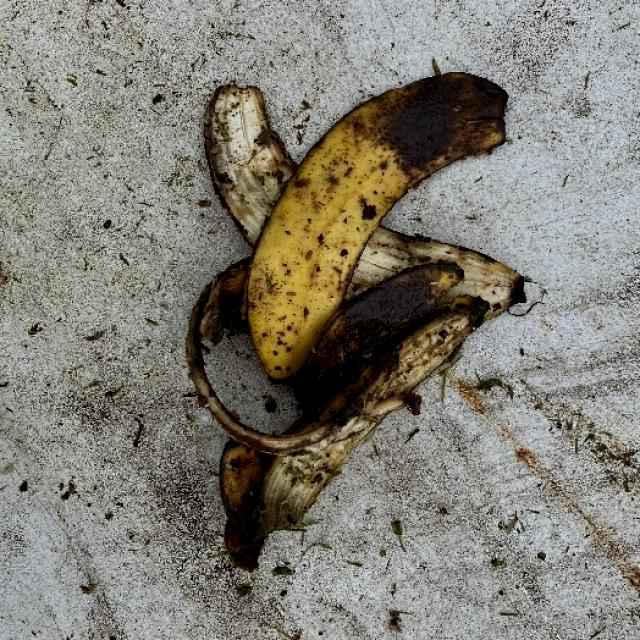organic: (187, 75, 530, 552)
